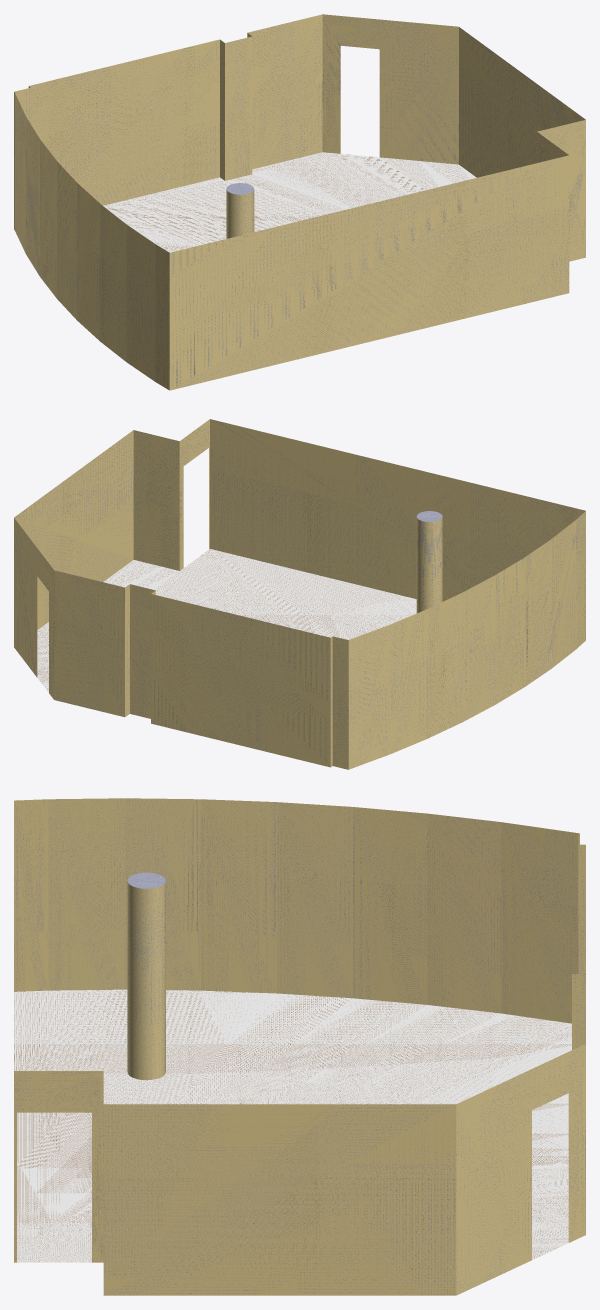
Rendered from AUL019.obj.
3 views of the same model, one above another, from view 1: azimuth 30°, elevation 25°; view 2: azimuth 150°, elevation 25°; view 3: azimuth 270°, elevation 25° (orthographic). The views are drawn at different scales.
Parts seen in each view (by area): view 1: Mesh4 AUL019 Model, Mesh1 Group1 AUL019 Model; view 2: Mesh4 AUL019 Model, Mesh1 Group1 AUL019 Model; view 3: Mesh4 AUL019 Model, Mesh1 Group1 AUL019 Model.
Part boxes in pixels (x1,y1,x2,y2): Mesh4 AUL019 Model: (14,14,585,390); Mesh1 Group1 AUL019 Model: (226,183,254,238); Mesh4 AUL019 Model: (14,419,585,769); Mesh1 Group1 AUL019 Model: (416,511,442,613); Mesh4 AUL019 Model: (14,798,585,1295); Mesh1 Group1 AUL019 Model: (127,872,165,1080).
Bounding box in the file's own units: 10.2 × 2.98 × 8.06.
Materials: 5 (2 with a texture image).
